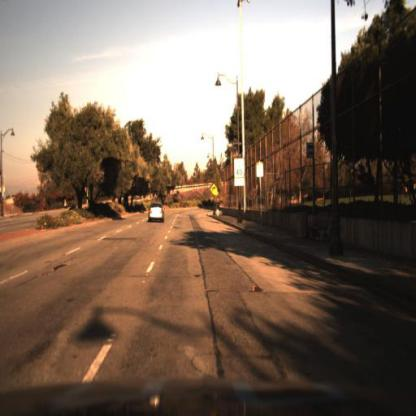car: (146, 199, 166, 225)
